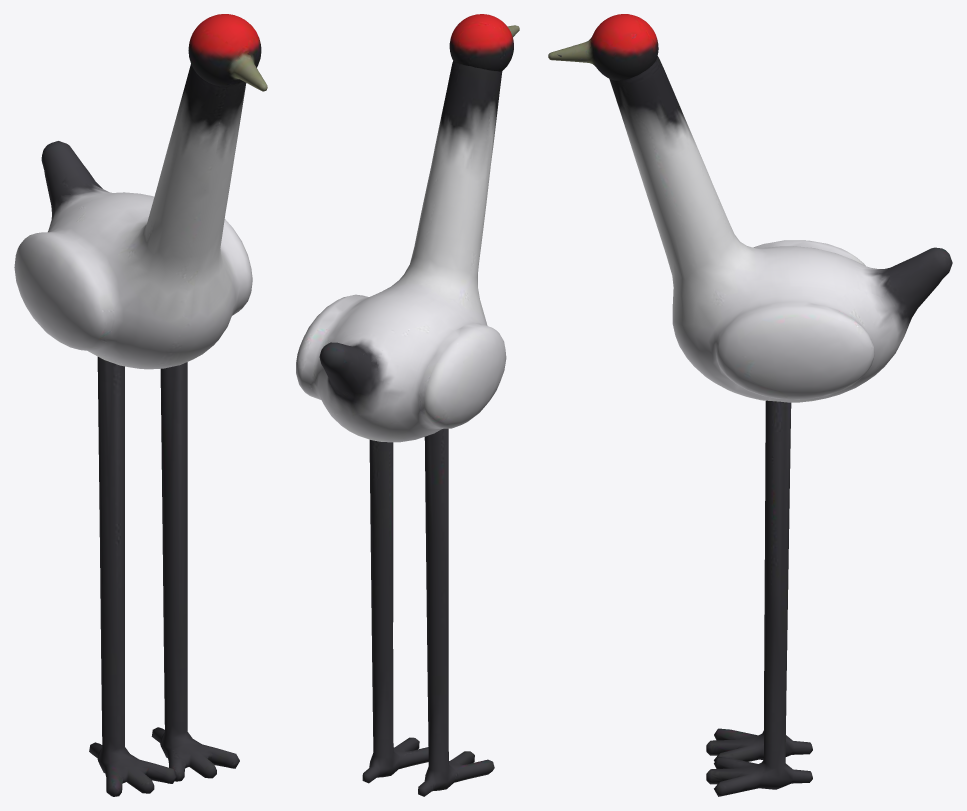
File: animal_crane.glb
3 renders of one model, left to right at view 1: azimuth 30°, elevation 25°; view 2: azimuth 150°, elevation 25°; view 3: azimuth 270°, elevation 25°, orthographic. The views are drawn at different scales.
Parts seen in each view (by area): view 1: animal_crane, leg0, leg1, head; view 2: animal_crane, leg0, leg1, head; view 3: animal_crane, leg1, head, leg0.
Part boxes in pixels (x1,y1,x2,y2): animal_crane: (14, 64, 252, 369); leg0: (89, 357, 176, 796); leg1: (151, 362, 239, 781); head: (188, 14, 267, 91); animal_crane: (296, 61, 506, 442); leg0: (418, 428, 494, 796); leg1: (362, 440, 428, 783); head: (449, 14, 519, 71); animal_crane: (609, 56, 952, 402); leg1: (706, 400, 812, 796); head: (548, 14, 658, 80); leg0: (706, 401, 812, 761).
Size of the model in its own units: 0.1889 by 0.777 by 0.3763.
Materials: 1 (1 with a texture image).
